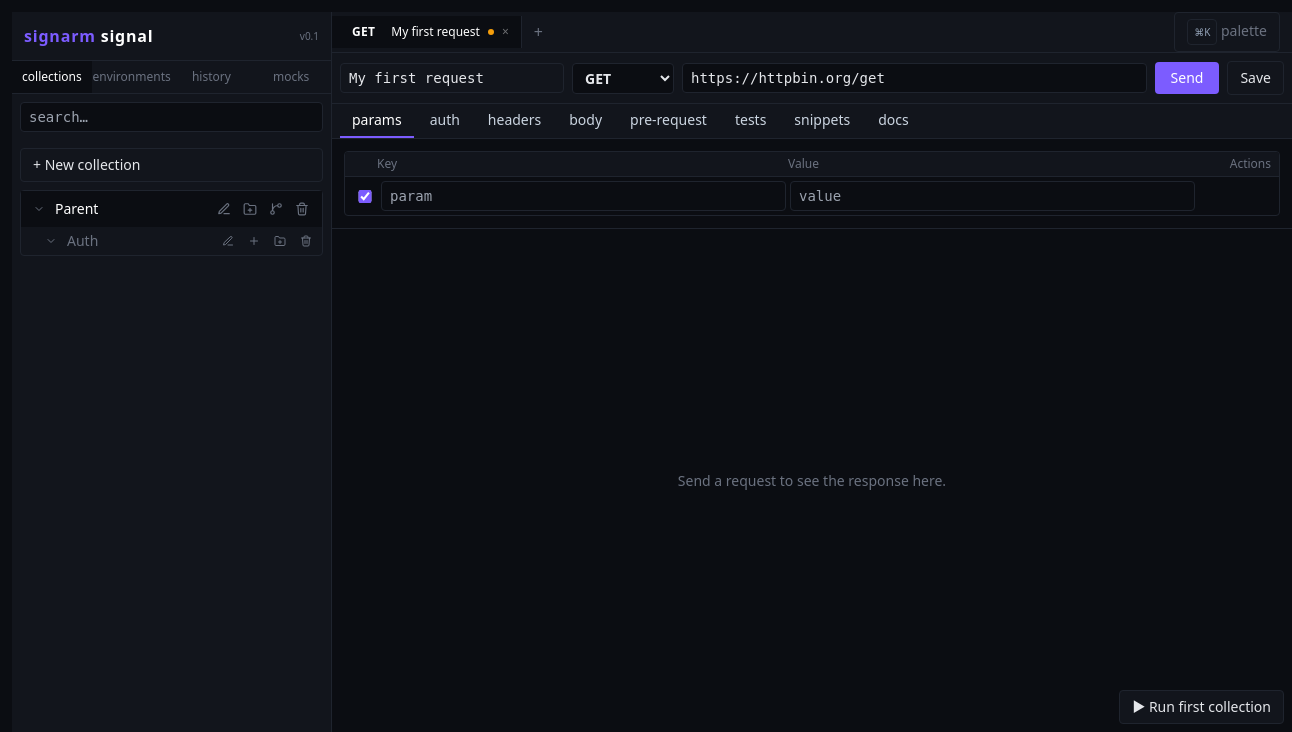
Scenario: rename — folders › double-click to rename a nested folder
Expected: the button "+ New collection" is shown, [20,148,323,182]
Double-click the text "Auth": (83, 240) [67,231,98,250]
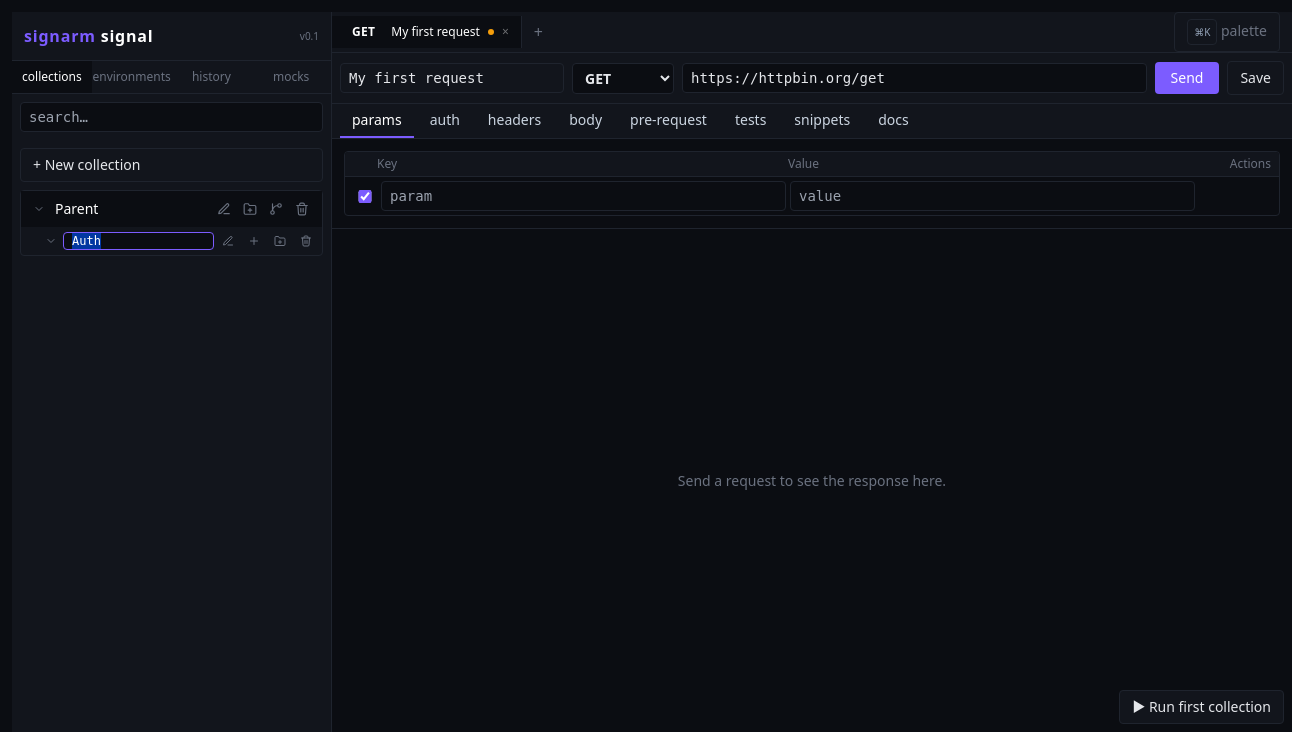
Replace the text in the field named "rename folder auth" with "Users": (138, 241) [63,232,214,250]
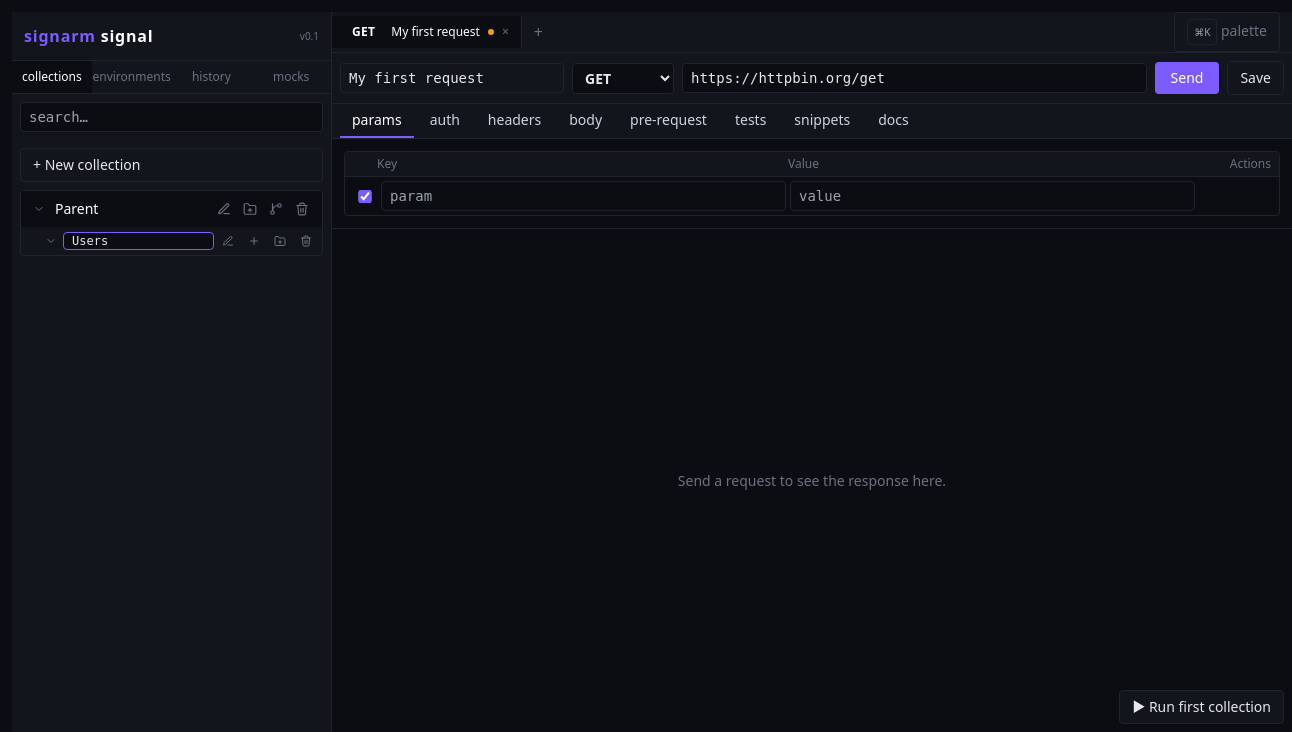
Press Enter in the field named "rename folder auth", box [63,232,214,250]
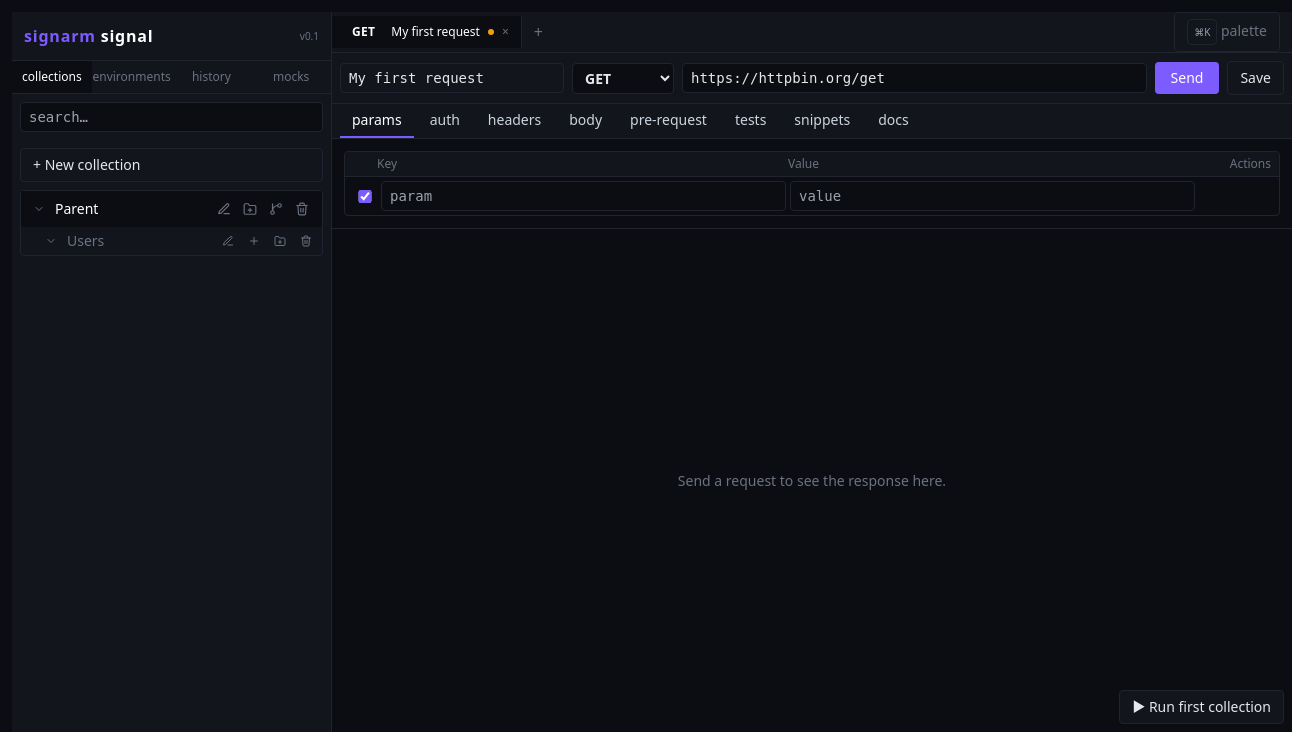
Expected: the text "Users" is shown, [67,231,104,250]
